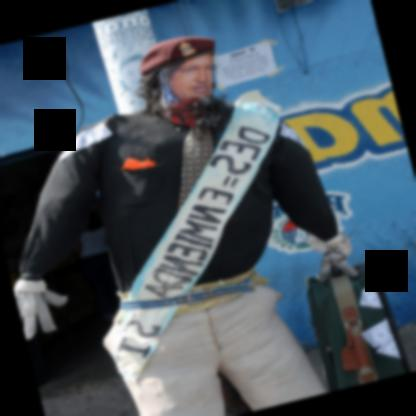suitcase: (308, 259, 411, 392)
